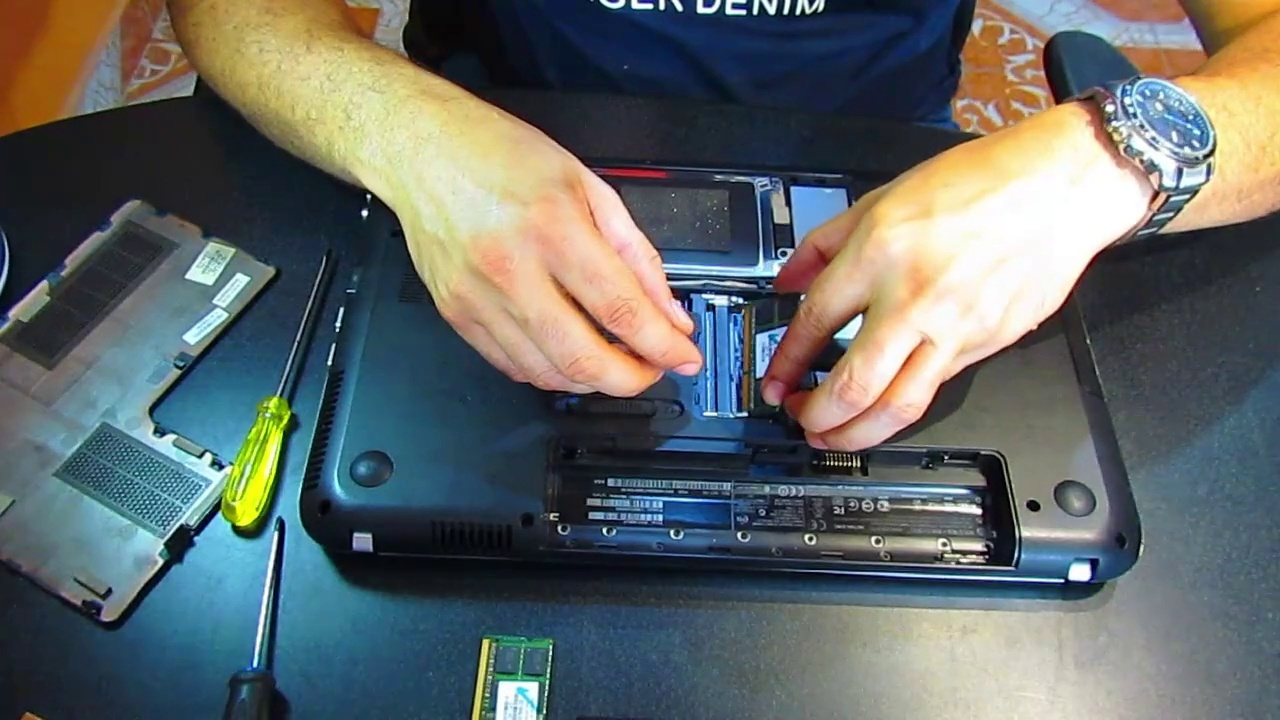screwdriver: (218, 246, 338, 531), (215, 516, 288, 720)
